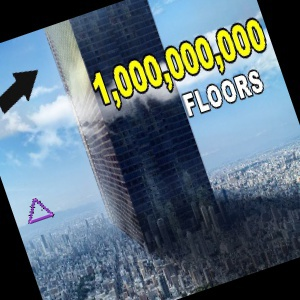triangle: (25, 196, 56, 225)
